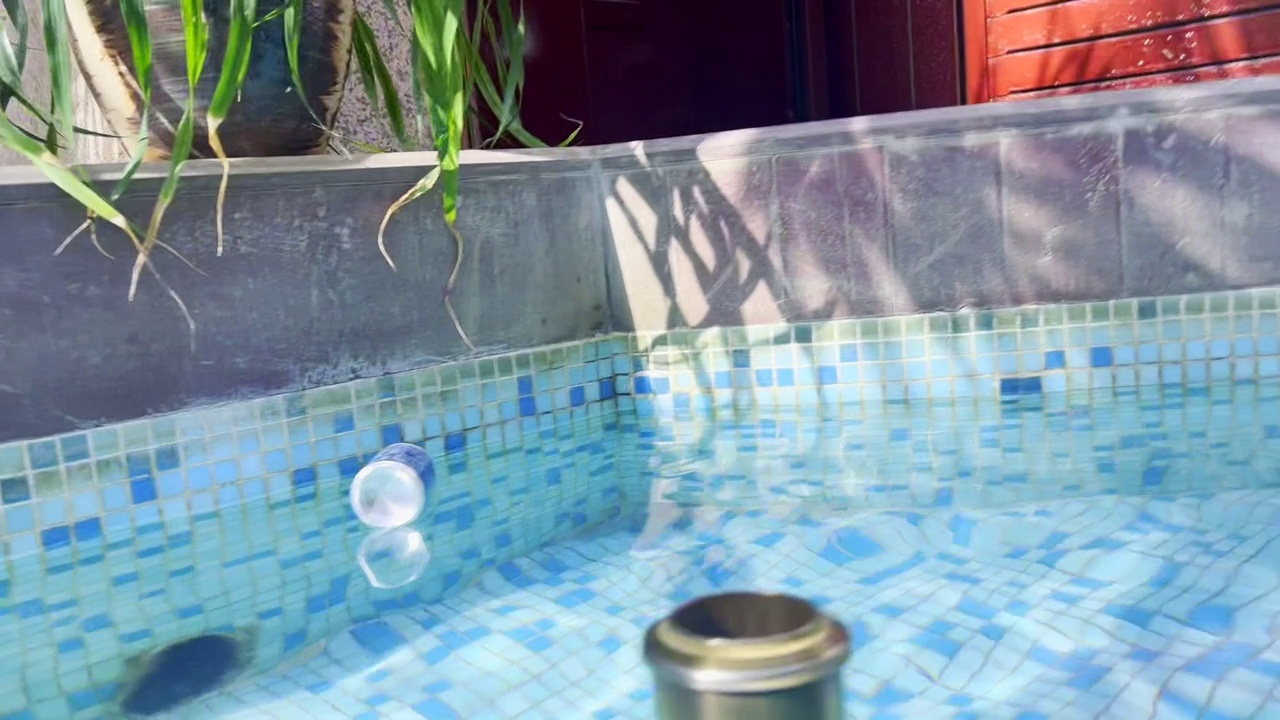debris: (351, 436, 437, 529)
